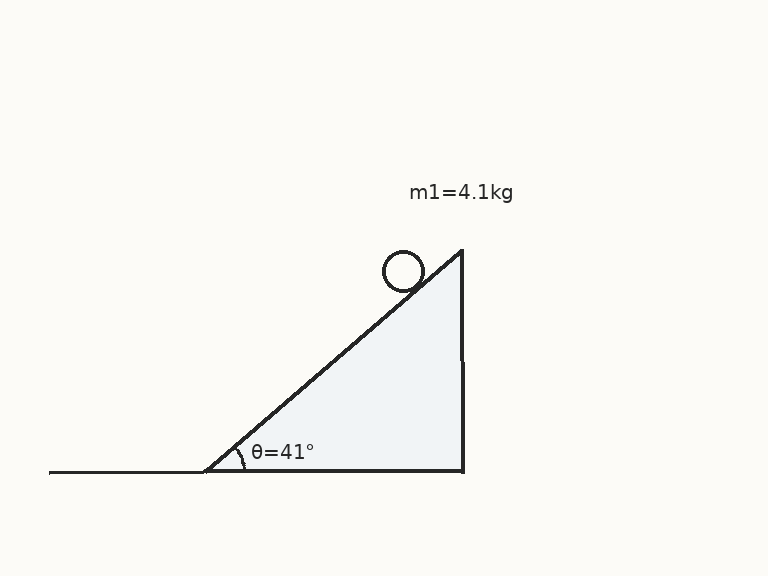ball: (380, 248, 426, 294)
ramp: (202, 247, 463, 474)
